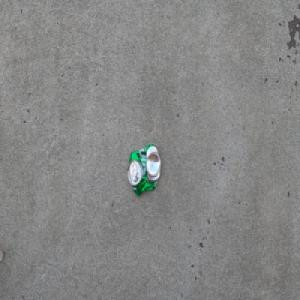SodaCan: (126, 143, 161, 197)
